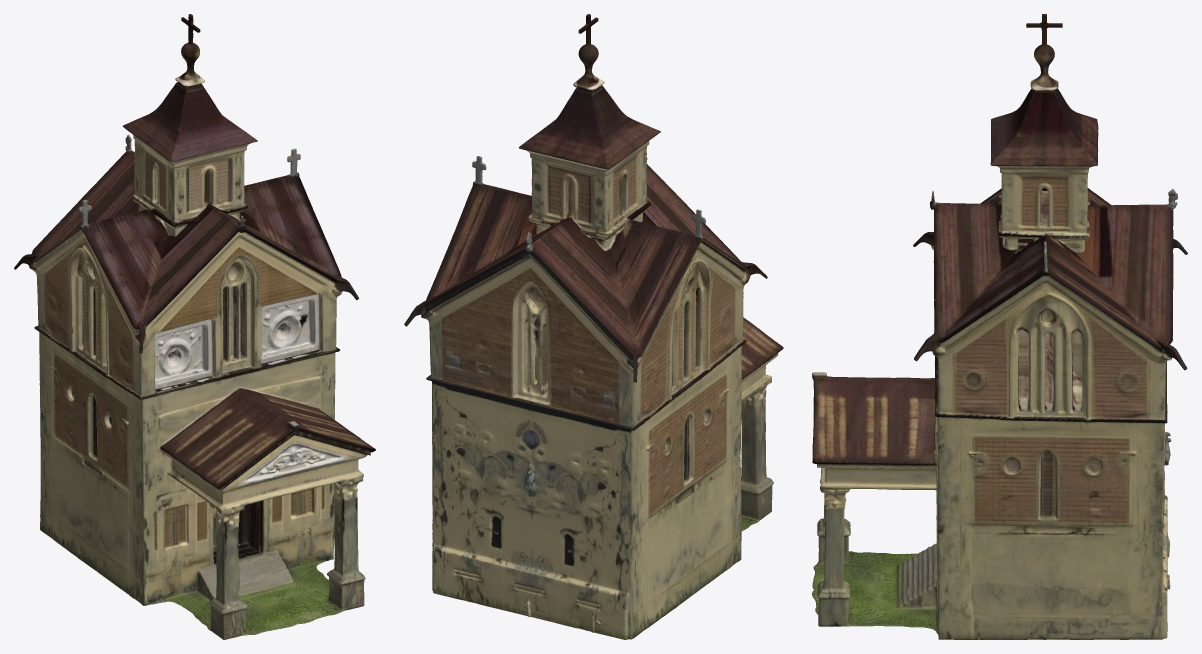
Rendered from dusmanica-grob.glb.
3 renders of one model, left to right at view 1: azimuth 30°, elevation 25°; view 2: azimuth 150°, elevation 25°; view 3: azimuth 270°, elevation 25°, orthographic. The views are drawn at different scales.
Size of the model in its own units: 0.8325 by 1.9 by 1.12.
1 material, 1 textured.
